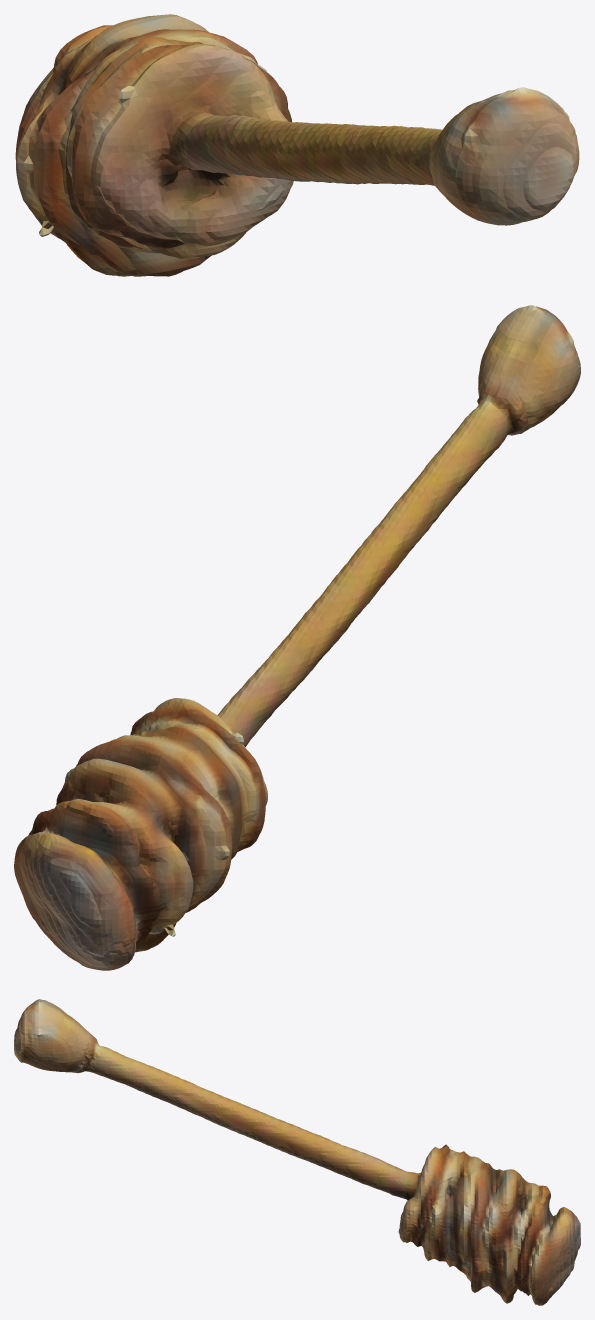
The picture shows the model from 3 angles, top to bottom: view 1: azimuth 30°, elevation 25°; view 2: azimuth 150°, elevation 25°; view 3: azimuth 270°, elevation 25°; orthographic projection. The views are drawn at different scales.
Parts seen in each view (by area): view 1: world; view 2: world; view 3: world.
Boxes of the visible parts, x1,y1,x2,y2 form: world: [15, 14, 579, 276]; world: [14, 305, 580, 970]; world: [14, 999, 580, 1305].
Size of the model in its own units: 0.3018 by 0.5806 by 1.08.
